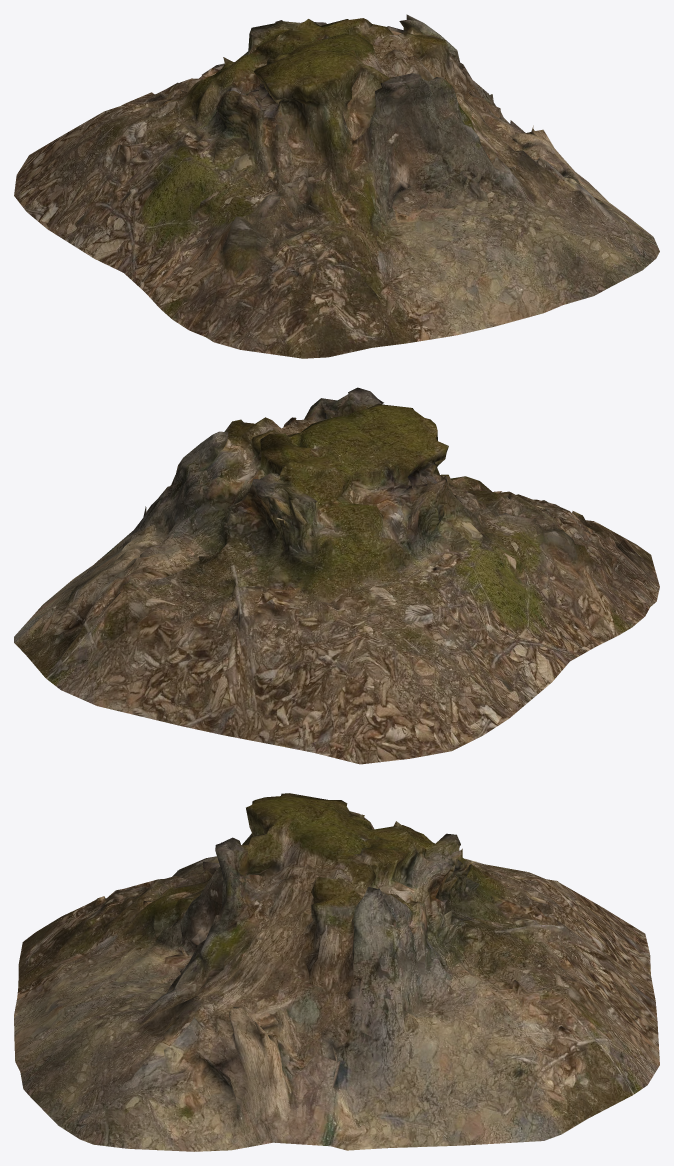
Rendered from tree_stump_01.glb.
The picture shows the model from 3 angles, top to bottom: view 1: azimuth 30°, elevation 25°; view 2: azimuth 150°, elevation 25°; view 3: azimuth 270°, elevation 25°; orthographic projection. The views are drawn at different scales.
Visible parts, largest first — view 1: tree_stump_01_LOD0; view 2: tree_stump_01_LOD0; view 3: tree_stump_01_LOD0.
Boxes of the visible parts, x1=… form: tree_stump_01_LOD0: x1=14, y1=14, x2=659, y2=358; tree_stump_01_LOD0: x1=14, y1=387, x2=659, y2=764; tree_stump_01_LOD0: x1=14, y1=793, x2=659, y2=1151.
Size of what is drawn, in the model's own units: 1.43 by 0.5713 by 1.59.
1 material, 1 textured.
